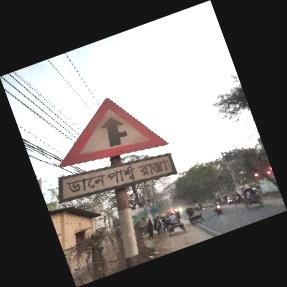Side-road-right: (60, 98, 181, 210)
